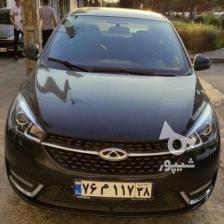plate: (73, 178, 154, 200), (0, 46, 6, 51)
